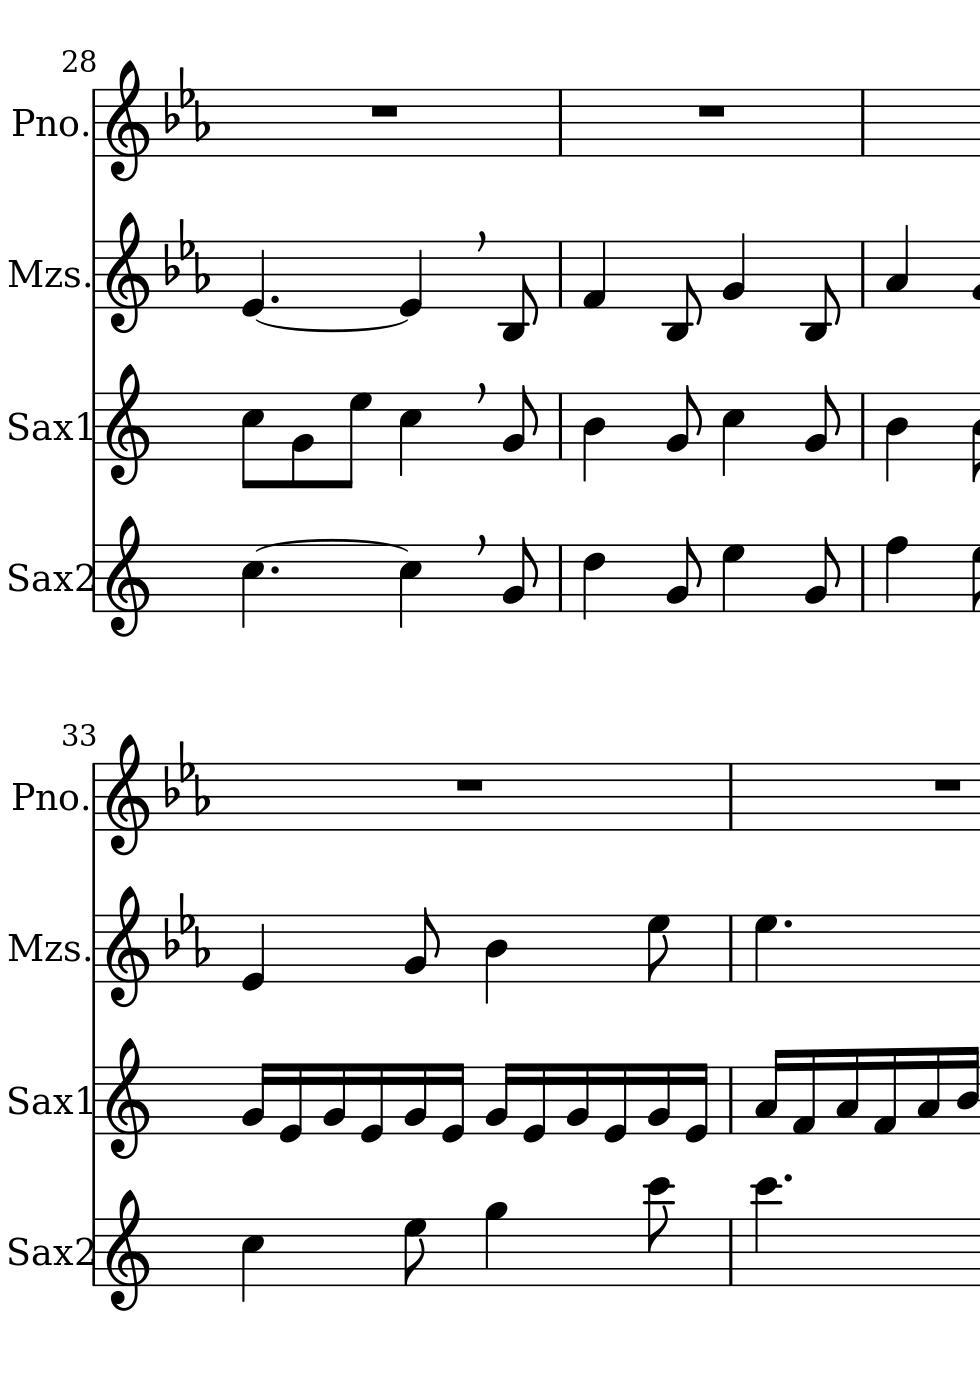16_0: (519, 1062, 548, 1145), (438, 1062, 467, 1146), (276, 1062, 304, 1145), (681, 1062, 710, 1145), (358, 1060, 385, 1145), (601, 1060, 628, 1145)
16_1: (790, 1046, 817, 1139), (871, 1046, 897, 1138)
16_2: (238, 1062, 273, 1136), (483, 1062, 515, 1136), (645, 1062, 672, 1136), (321, 1062, 348, 1136), (564, 1062, 591, 1136), (402, 1062, 428, 1135)
16_3: (751, 1047, 784, 1135), (834, 1047, 860, 1135), (915, 1045, 941, 1136)
16_4: (955, 1045, 978, 1137)
2: (60, 48, 78, 74)
3: (78, 721, 97, 750), (60, 722, 78, 749)
4_0: (397, 239, 424, 320), (240, 239, 266, 319), (240, 913, 266, 993)
4_1: (581, 239, 607, 311)
4_12: (750, 1177, 781, 1289)
4_2: (721, 230, 746, 310)
4_3: (883, 224, 909, 309)
4_4: (482, 913, 508, 1006), (580, 391, 606, 483), (883, 392, 908, 483)
4_5: (396, 542, 423, 630), (238, 1216, 265, 1304), (239, 543, 264, 631), (397, 392, 422, 479), (719, 391, 745, 478)
4_6: (580, 543, 606, 620)
4_7: (719, 542, 746, 613), (752, 913, 778, 984)
4_8: (882, 536, 908, 613)
4_9: (482, 1200, 508, 1288)
8: (78, 47, 97, 75)
8_-3: (663, 239, 703, 343), (498, 239, 538, 343), (802, 239, 840, 343)
8_12: (642, 1175, 675, 1289)
8_2: (664, 536, 703, 613), (803, 536, 841, 613), (664, 384, 702, 460), (501, 384, 538, 461), (803, 384, 840, 461), (501, 536, 538, 613), (403, 906, 440, 983), (288, 391, 314, 490)
8_5: (239, 389, 265, 492)
8_7: (335, 390, 371, 491), (644, 913, 672, 984), (401, 1217, 427, 1287)
E_F: (161, 65, 211, 142), (162, 215, 211, 294), (162, 891, 211, 968), (162, 739, 211, 815)
Gclef: (104, 1035, 152, 1161), (104, 362, 152, 487), (104, 884, 151, 1011), (104, 733, 151, 857), (104, 58, 150, 183), (104, 210, 150, 334), (105, 1189, 151, 1313), (105, 514, 150, 638)
Pno: (11, 780, 81, 815), (11, 107, 81, 141)
Rests1: (929, 774, 965, 794), (452, 775, 487, 794), (367, 101, 401, 120), (694, 101, 728, 119)
Rests8: (475, 533, 487, 559)
Sax: (1, 1081, 77, 1125), (2, 1232, 77, 1273), (3, 559, 77, 598), (3, 408, 76, 448)
Single_barline: (853, 545, 872, 611), (722, 764, 739, 830), (552, 90, 568, 156), (552, 241, 568, 306), (552, 545, 568, 611), (723, 916, 740, 981), (552, 394, 568, 458), (854, 394, 871, 458), (722, 1067, 738, 1133), (88, 393, 103, 462), (88, 1067, 103, 1135), (855, 90, 870, 156), (855, 242, 870, 306), (723, 1220, 738, 1284), (87, 89, 101, 158), (87, 764, 101, 832), (87, 241, 101, 309), (89, 545, 103, 613), (88, 1220, 102, 1287), (88, 915, 101, 984)
Slur: (256, 318, 409, 334)
dot: (780, 917, 794, 931), (781, 1172, 794, 1186), (268, 292, 280, 306), (268, 563, 280, 578)
